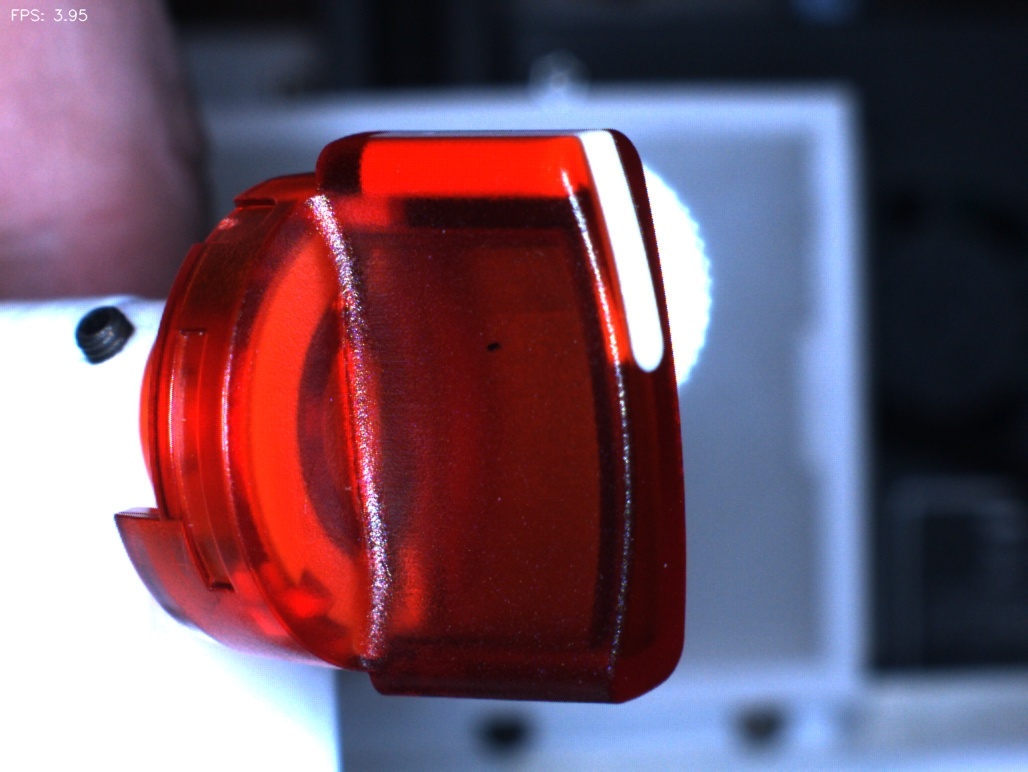PointNoir: (462, 305, 535, 384)
